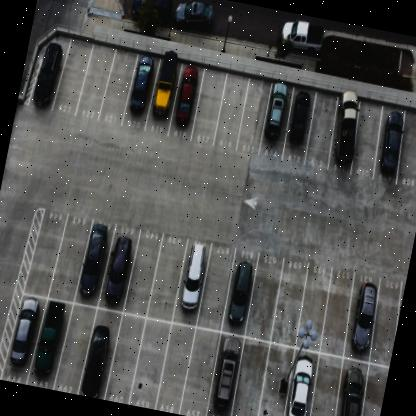Car: (343, 275, 385, 363), (143, 48, 183, 137), (76, 316, 116, 398), (30, 28, 72, 105), (168, 51, 202, 142), (28, 293, 66, 370), (279, 348, 322, 416), (100, 235, 138, 310), (124, 44, 158, 127), (330, 82, 362, 170), (78, 216, 111, 297), (178, 232, 210, 314), (282, 84, 315, 158), (6, 296, 38, 366), (262, 80, 295, 147), (331, 365, 370, 416), (373, 112, 403, 174), (216, 340, 242, 405), (227, 262, 251, 320)
Empty: (62, 300, 92, 384), (231, 346, 267, 416), (80, 43, 111, 119), (186, 334, 218, 406), (29, 216, 60, 290), (110, 318, 141, 392), (57, 40, 88, 109), (237, 86, 269, 152), (150, 247, 182, 313), (158, 332, 190, 398), (101, 56, 132, 122), (138, 326, 166, 398), (194, 76, 224, 143), (349, 106, 379, 172), (128, 247, 160, 308), (53, 227, 83, 292), (311, 358, 344, 416), (215, 85, 245, 146), (371, 288, 399, 352), (261, 356, 290, 416), (274, 273, 302, 333), (323, 280, 350, 342), (254, 265, 280, 327), (302, 269, 328, 330), (202, 258, 229, 316), (308, 102, 335, 152), (362, 376, 387, 416), (400, 123, 416, 178)
